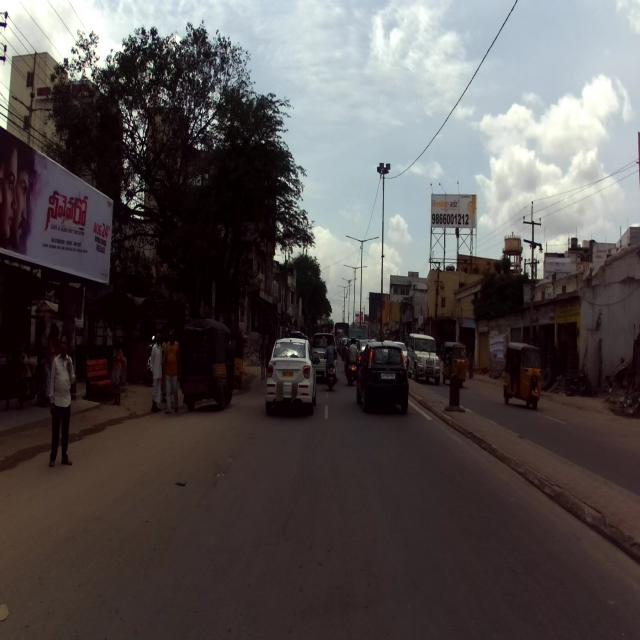autorickshaw: (179, 314, 235, 413), (503, 336, 544, 413)
car: (265, 335, 320, 415), (355, 342, 409, 418)
